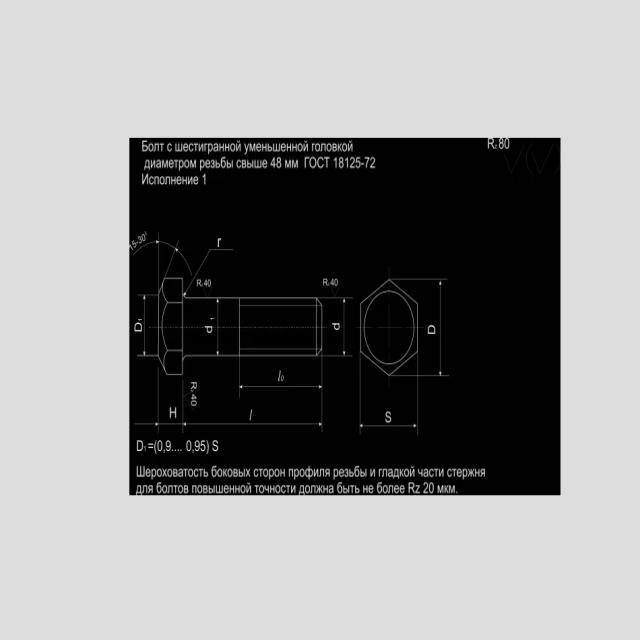marking_line: (134, 377, 329, 434), (180, 378, 326, 438), (238, 357, 325, 401), (359, 378, 420, 437), (418, 278, 449, 378), (131, 230, 193, 276), (184, 247, 233, 296), (323, 295, 353, 358), (133, 365, 160, 434), (136, 294, 157, 357), (215, 299, 220, 355)
numeric: (165, 440, 172, 452), (200, 439, 206, 453), (428, 482, 435, 494), (369, 156, 376, 168), (349, 156, 355, 169), (270, 156, 276, 169), (157, 439, 163, 451), (186, 440, 192, 452), (423, 482, 429, 494), (355, 157, 361, 169), (276, 156, 282, 168), (195, 439, 200, 453), (339, 156, 344, 168), (364, 157, 369, 169), (505, 138, 510, 149), (499, 138, 504, 149), (191, 393, 198, 400), (203, 173, 207, 184), (323, 278, 328, 286), (132, 240, 137, 248), (345, 156, 348, 169), (330, 278, 334, 287), (191, 401, 197, 407), (142, 233, 146, 242), (334, 157, 337, 168), (334, 279, 338, 287), (138, 236, 142, 244), (204, 278, 207, 287), (208, 279, 211, 287), (137, 318, 143, 322), (129, 244, 133, 250), (210, 317, 215, 320)
special_symbol: (206, 439, 211, 454), (153, 440, 157, 455), (281, 374, 284, 382), (144, 230, 147, 236)
